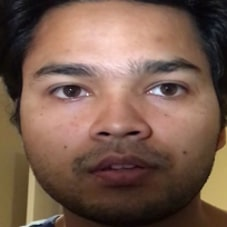awake: (32, 48, 204, 194)
